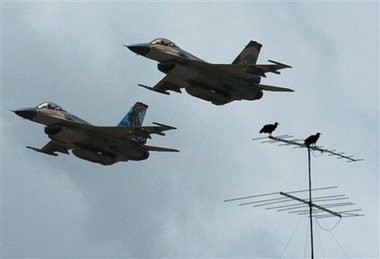Cargoship: (8, 94, 184, 166)
airplane: (121, 34, 294, 108)
